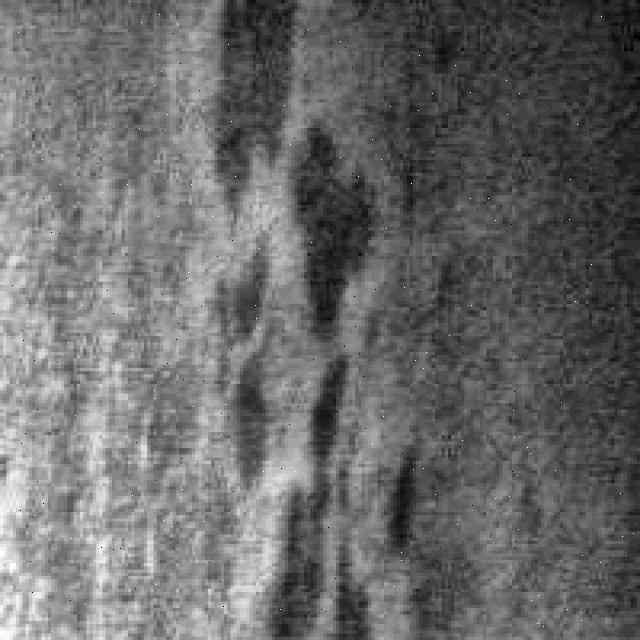Patches: (266, 115, 378, 634), (188, 0, 294, 506)
